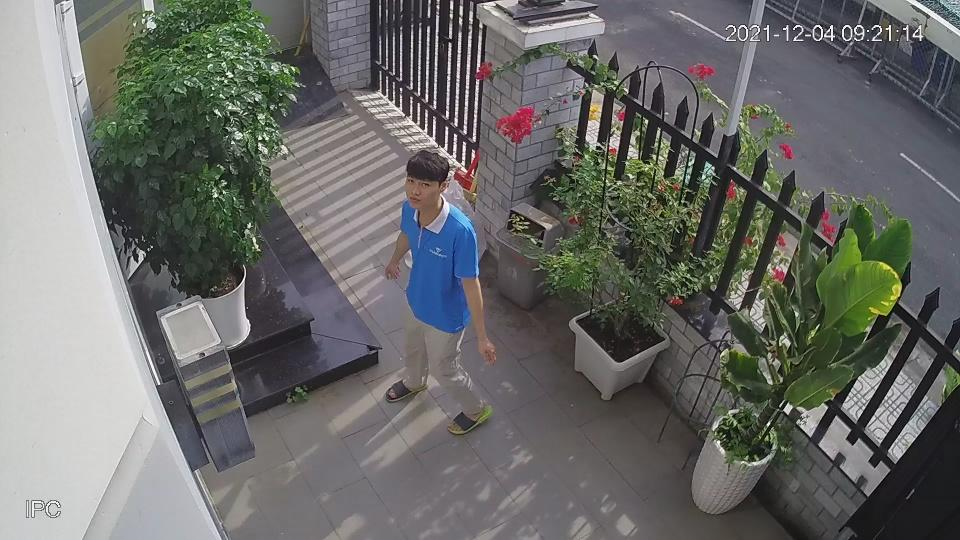person: (383, 150, 499, 435)
